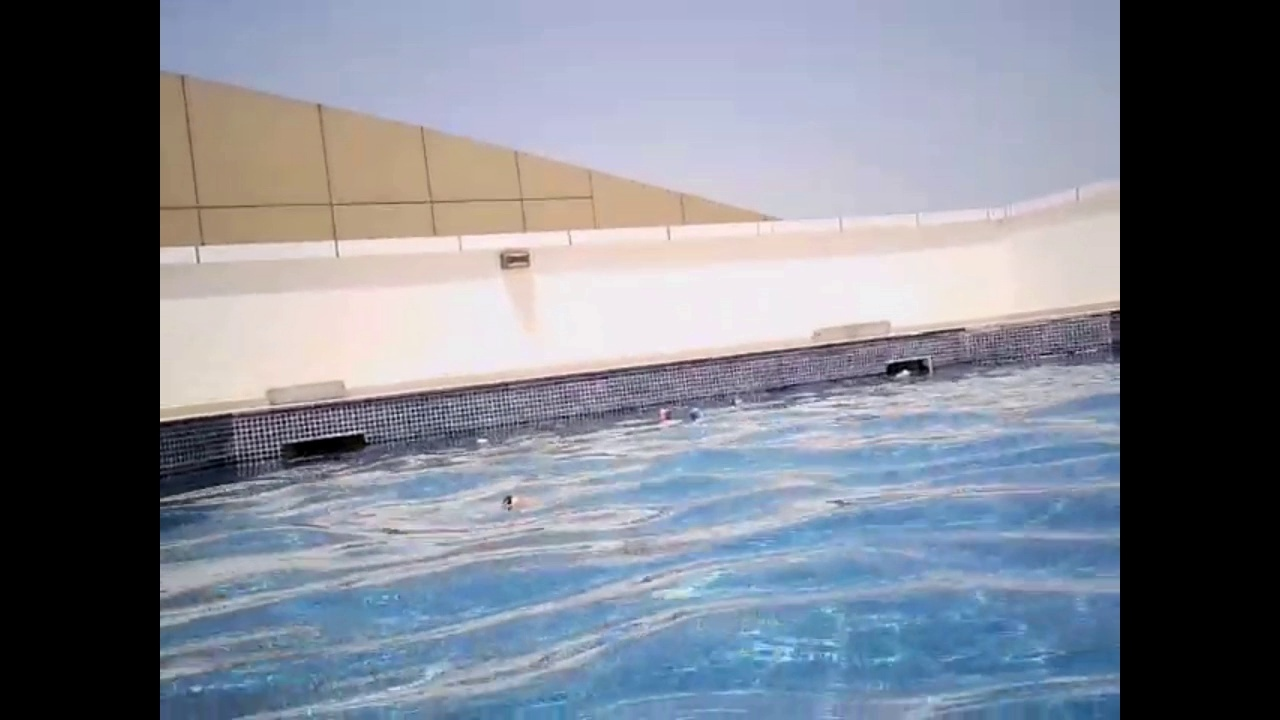debris: (498, 486, 540, 515), (886, 366, 912, 381), (685, 403, 703, 423), (655, 404, 676, 420), (729, 395, 745, 408)
